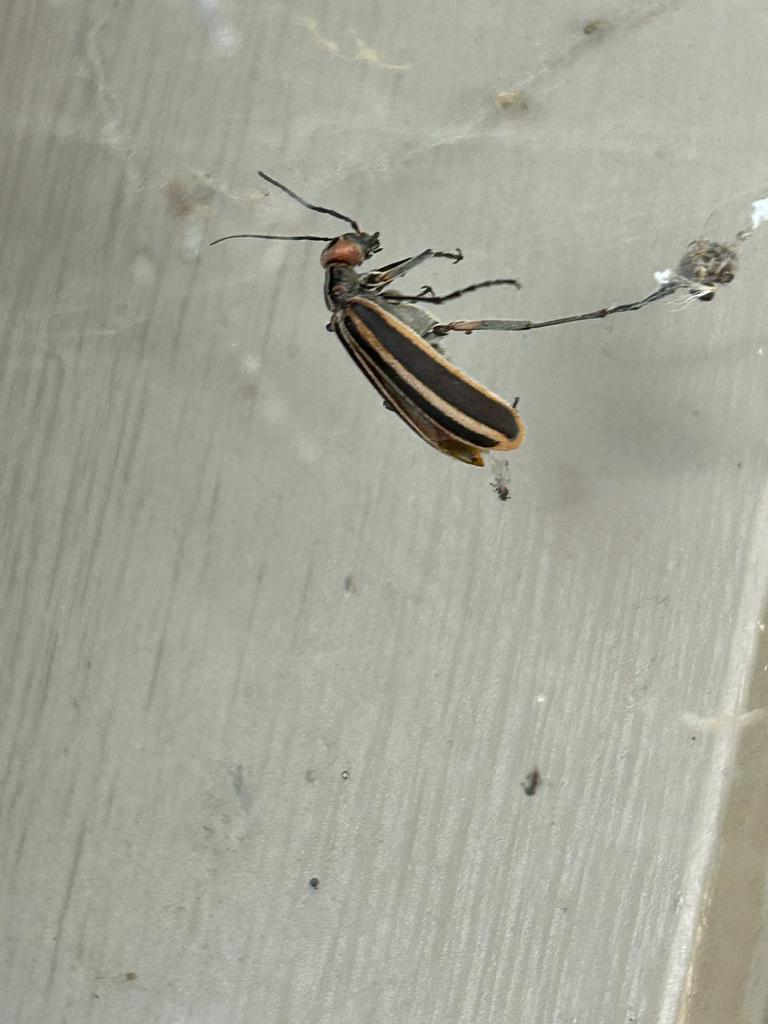blister_beetle: (168, 101, 702, 569)
